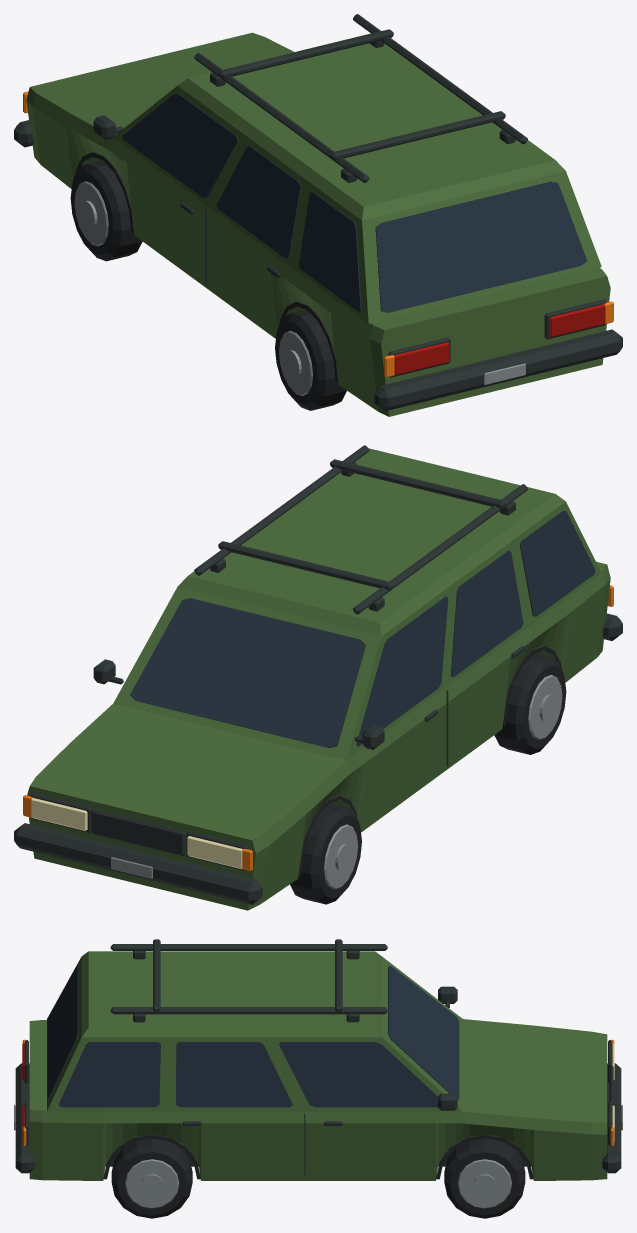
The model's file is 03_StationWagon.fbx.
3 views of the same model, one above another, from view 1: azimuth 30°, elevation 25°; view 2: azimuth 150°, elevation 25°; view 3: azimuth 270°, elevation 25° (orthographic). The views are drawn at different scales.
Visible parts, largest first — view 1: Continuous body with open wheel arches.002, Raked cabin with chamfered roof.002, Framed rear windshield.002, Side glass -1 pane 2, Moulded bumper.005, Side glass -1 pane 1.002, Side glass -1 pane 0.002, WheelFL_ShapedSidewall.002, WheelRL_ShapedSidewall.002, Roof rail, Roof crossbar.001, Roof crossbar (+6 smaller); view 2: Continuous body with open wheel arches.002, Raked cabin with chamfered roof.002, Framed opaque windshield.002, Side glass -1 pane 2, Moulded bumper.004, Side glass -1 pane 1.002, Side glass -1 pane 0.002, WheelRL_ShapedSidewall.002, WheelFL_ShapedSidewall.002, Inset radiator grille.002, Roof rail, Roof crossbar (+6 smaller); view 3: Continuous body with open wheel arches.002, Raked cabin with chamfered roof.002, Side glass 1 pane 2, Side glass 1 pane 1.002, Side glass 1 pane 0.002, Framed opaque windshield.002, WheelFR_ShapedSidewall.002, WheelRR_ShapedSidewall.002, Framed rear windshield.002, Roof rail.001, Roof rail, WheelFR_Rim.002 (+9 smaller).
Boxes of the visible parts, x1=… form: Continuous body with open wheel arches.002: x1=26, y1=32, x2=610, y2=416; Raked cabin with chamfered roof.002: x1=113, y1=33, x2=601, y2=323; Framed rear windshield.002: x1=375, y1=181, x2=587, y2=312; Side glass -1 pane 2: x1=122, y1=94, x2=237, y2=197; Moulded bumper.005: x1=374, y1=329, x2=622, y2=411; Side glass -1 pane 1.002: x1=216, y1=146, x2=301, y2=258; Side glass -1 pane 0.002: x1=298, y1=191, x2=361, y2=311; WheelFL_ShapedSidewall.002: x1=70, y1=159, x2=142, y2=261; WheelRL_ShapedSidewall.002: x1=275, y1=308, x2=346, y2=410; Roof rail: x1=194, y1=52, x2=369, y2=182; Roof crossbar.001: x1=218, y1=29, x2=393, y2=78; Roof crossbar: x1=330, y1=111, x2=505, y2=160; Continuous body with open wheel arches.002: x1=27, y1=561, x2=610, y2=910; Raked cabin with chamfered roof.002: x1=113, y1=448, x2=601, y2=760; Framed opaque windshield.002: x1=130, y1=598, x2=365, y2=747; Side glass -1 pane 2: x1=356, y1=596, x2=448, y2=746; Moulded bumper.004: x1=14, y1=823, x2=262, y2=904; Side glass -1 pane 1.002: x1=450, y1=550, x2=523, y2=677; Side glass -1 pane 0.002: x1=520, y1=510, x2=595, y2=616; WheelRL_ShapedSidewall.002: x1=494, y1=652, x2=566, y2=754; WheelFL_ShapedSidewall.002: x1=290, y1=802, x2=361, y2=904; Inset radiator grille.002: x1=91, y1=809, x2=185, y2=855; Roof rail: x1=353, y1=484, x2=527, y2=614; Roof crossbar: x1=330, y1=459, x2=505, y2=508; Continuous body with open wheel arches.002: x1=29, y1=1019, x2=607, y2=1180; Raked cabin with chamfered roof.002: x1=47, y1=951, x2=462, y2=1111; Side glass 1 pane 2: x1=279, y1=1042, x2=437, y2=1107; Side glass 1 pane 1.002: x1=176, y1=1042, x2=292, y2=1107; Side glass 1 pane 0.002: x1=58, y1=1042, x2=160, y2=1107; Framed opaque windshield.002: x1=388, y1=966, x2=459, y2=1099; WheelFR_ShapedSidewall.002: x1=444, y1=1138, x2=525, y2=1218; WheelRR_ShapedSidewall.002: x1=111, y1=1138, x2=192, y2=1218; Framed rear windshield.002: x1=47, y1=966, x2=78, y2=1099; Roof rail.001: x1=110, y1=1007, x2=387, y2=1014; Roof rail: x1=110, y1=944, x2=387, y2=950; WheelFR_Rim.002: x1=457, y1=1159, x2=511, y2=1208.
Bounding box in the file's own units: 209 × 172 × 480.
